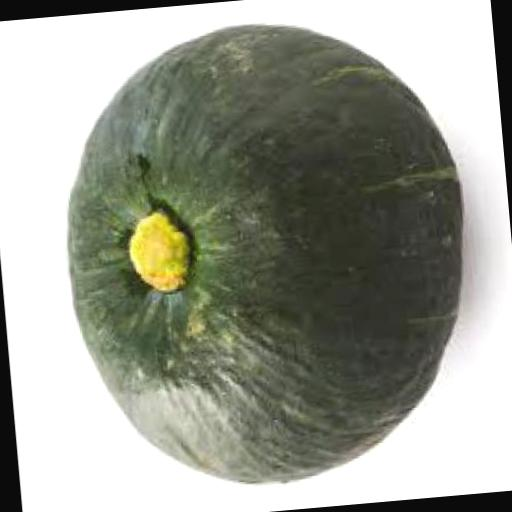biodegradable: (44, 10, 484, 501)
